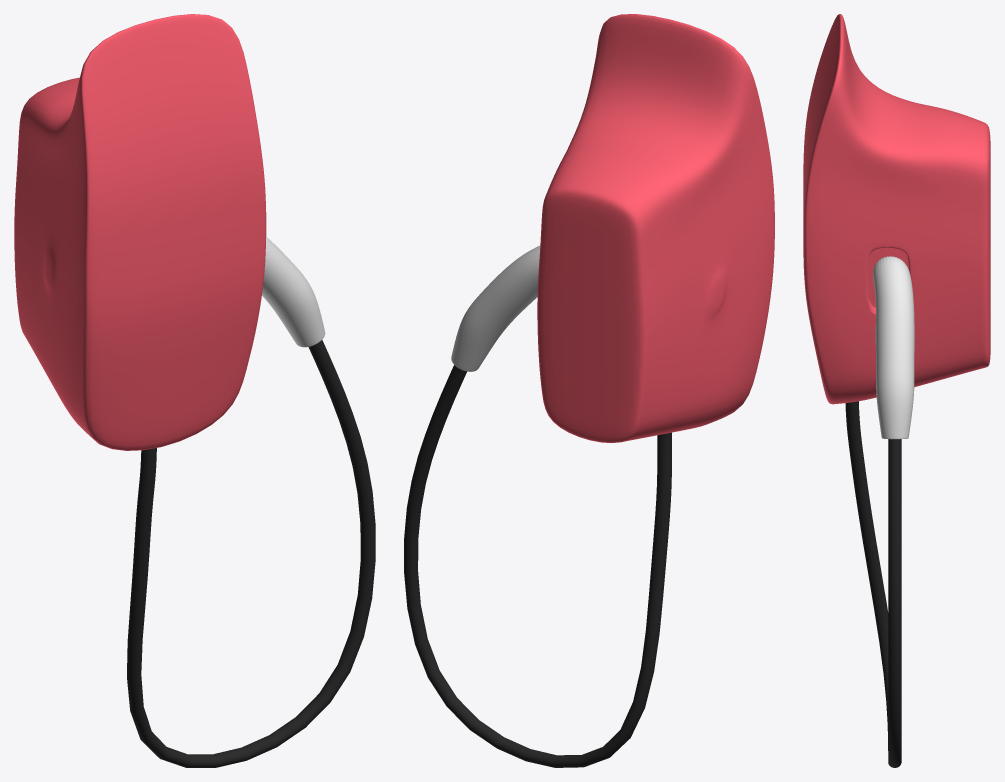
The picture shows the model from 3 angles, left to right: view 1: azimuth 30°, elevation 25°; view 2: azimuth 150°, elevation 25°; view 3: azimuth 270°, elevation 25°; orthographic projection. The views are drawn at different scales.
Parts seen in each view (by area): view 1: Plane; view 2: Plane; view 3: Plane.
Boxes of the visible parts, bbox=[...] form: Plane: bbox=[14, 14, 375, 767]; Plane: bbox=[404, 14, 774, 767]; Plane: bbox=[803, 14, 990, 767].
Size of the model in its own units: 0.2882 by 0.6408 by 0.1604.
